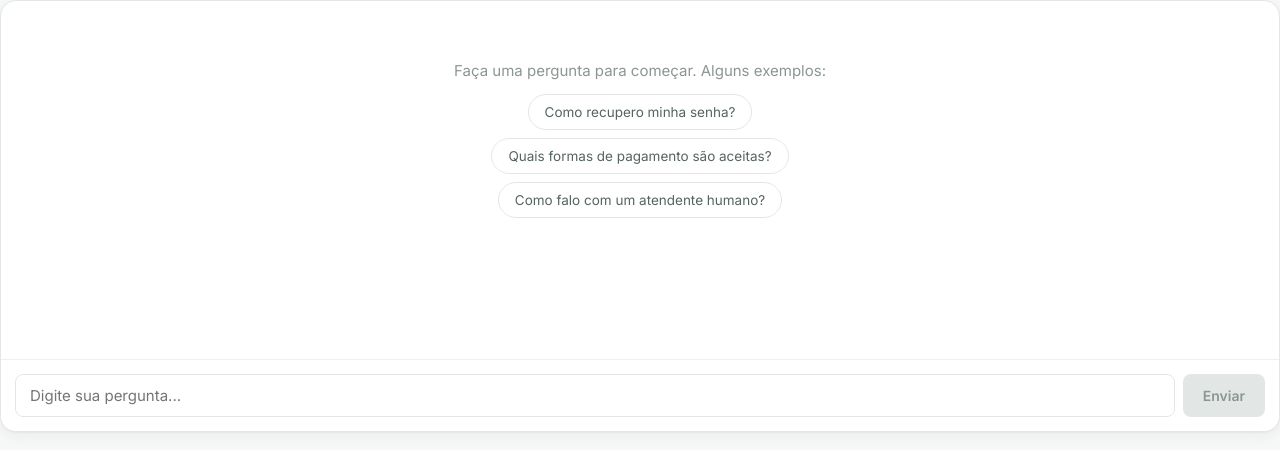
Test: ChatWindow › mostra mensagem específica de rate limit no toast e na bolha quando a API retorna 429
Type "Pergunta enviada rápido demais" into the field with placeholder "Digite sua pergunta...".
click(595, 396); type("Pergunta enviada rápido demais")  # box [15,374,1175,417]
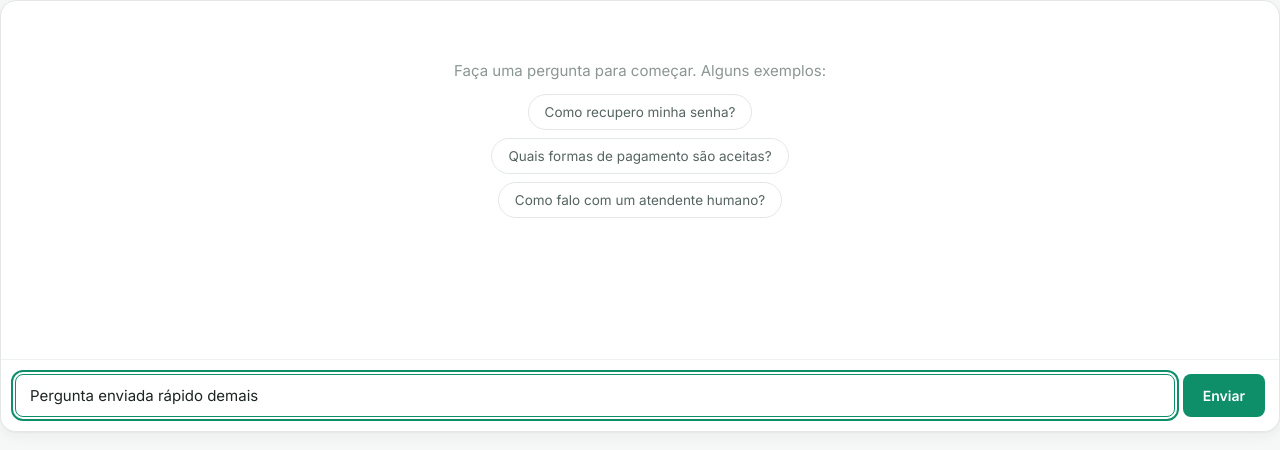
Click the button "Enviar".
click(1224, 396)  # box [1183,374,1265,417]
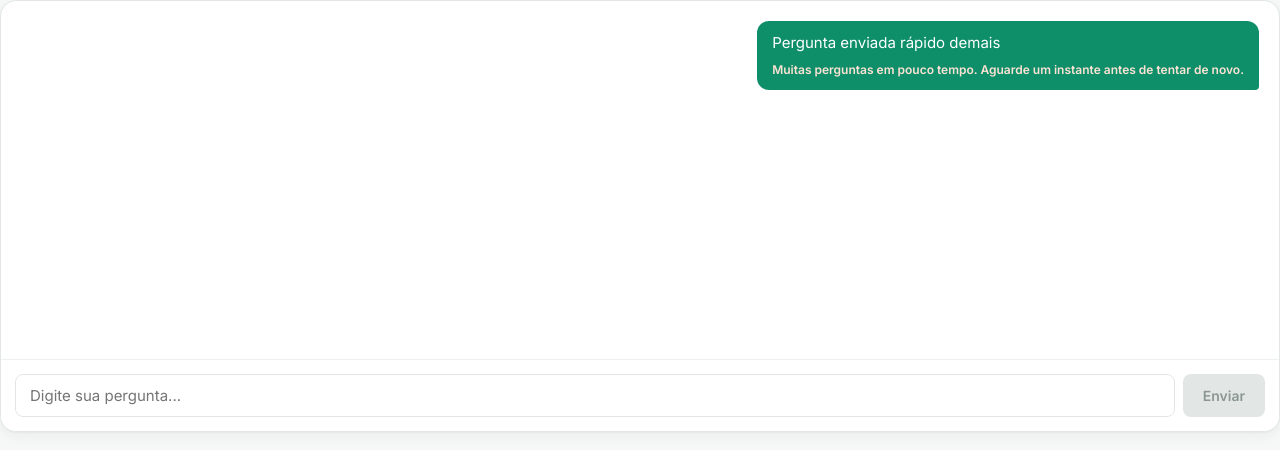
expect the text "Muitas perguntas em pouco tempo. Aguarde um instante antes de tentar de novo." is shown: met, box [772,60,1244,78]
